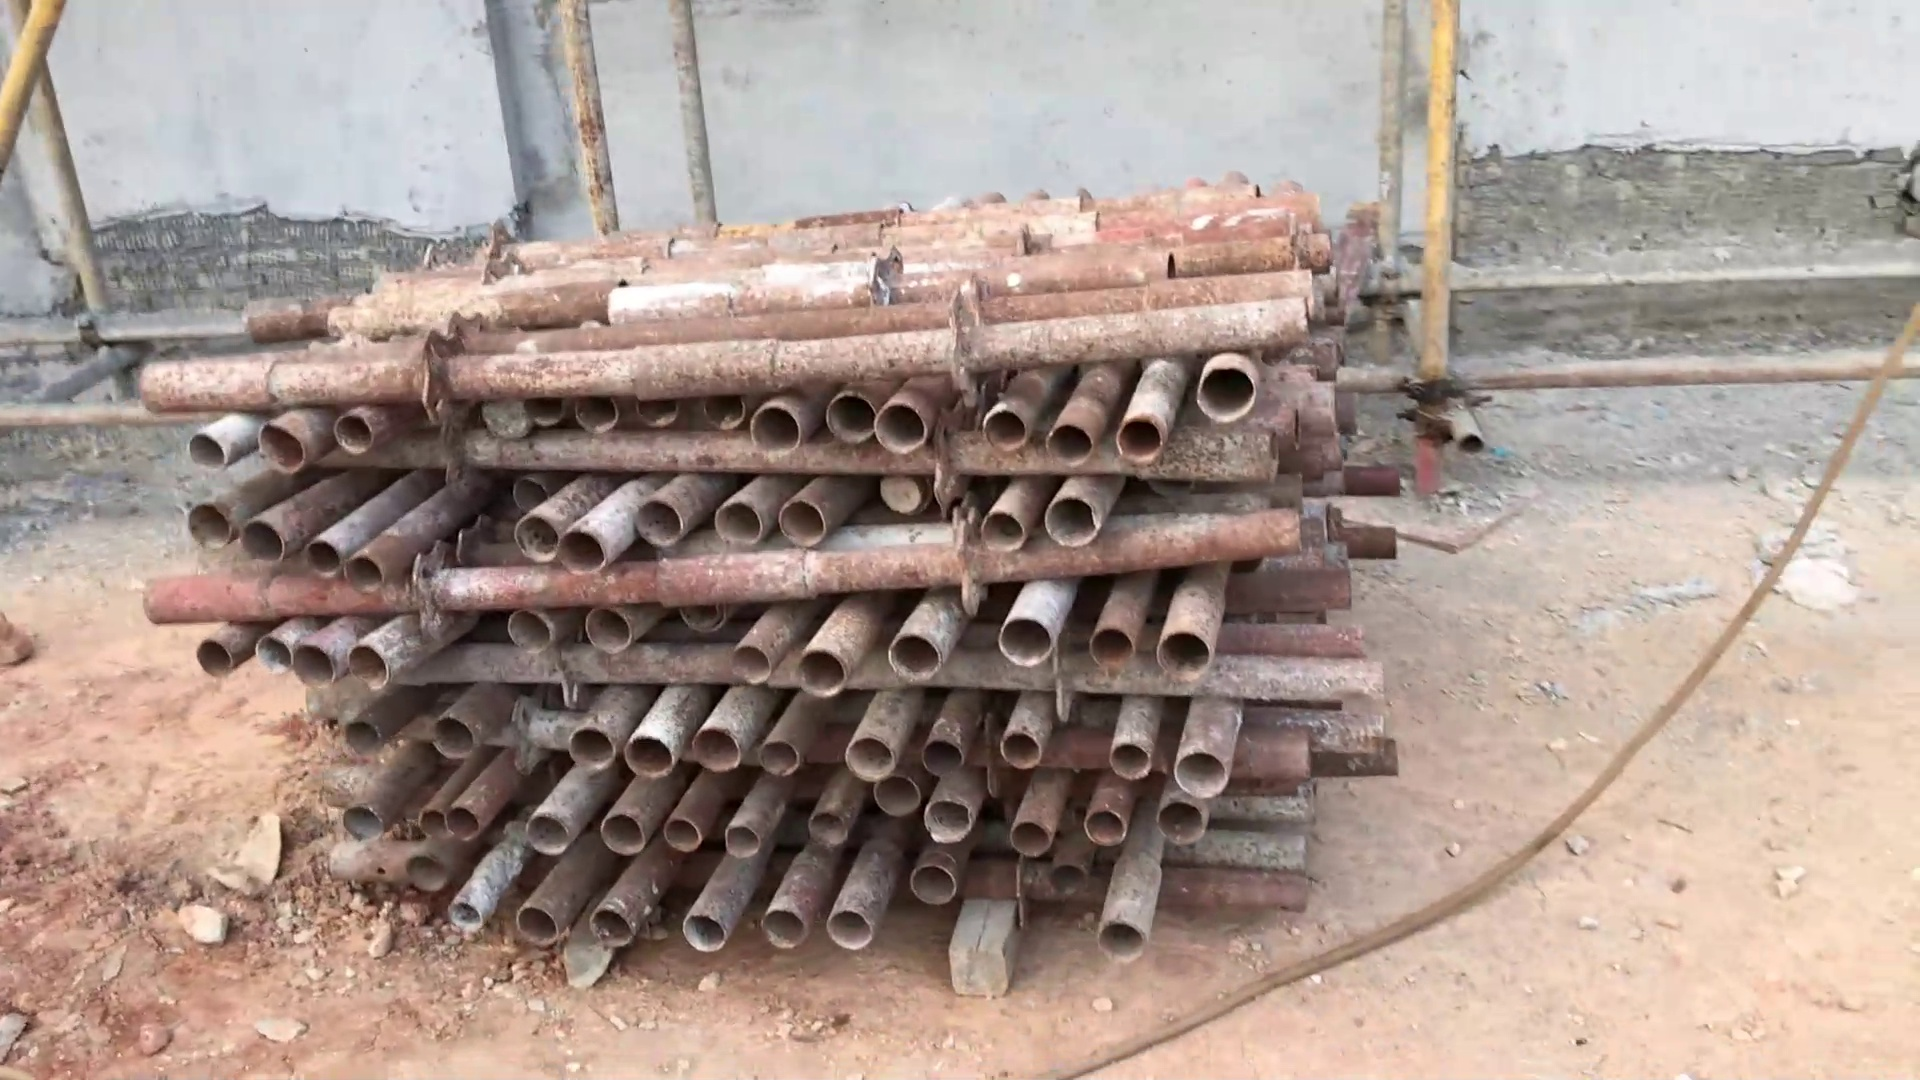scaffold: (129, 145, 1457, 976)
